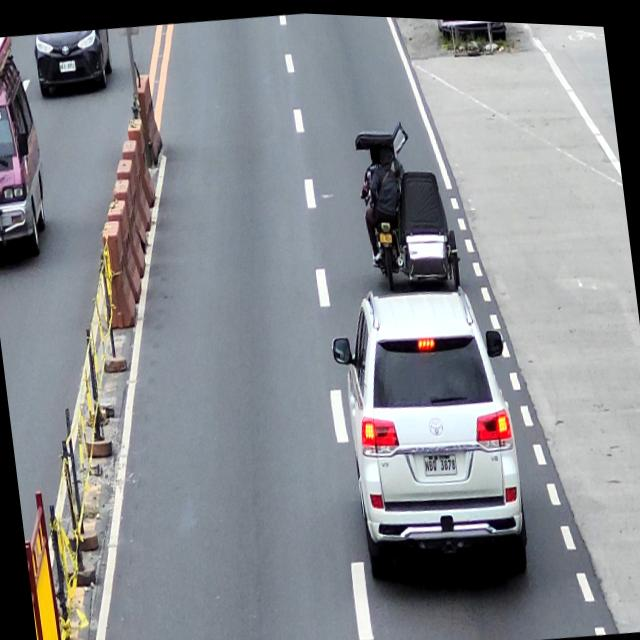Car: (326, 273, 534, 595), (0, 51, 54, 263), (32, 25, 117, 99)
License-Plate: (423, 449, 458, 475), (378, 226, 394, 241), (58, 59, 76, 72)
Tricycle: (352, 117, 462, 297)
